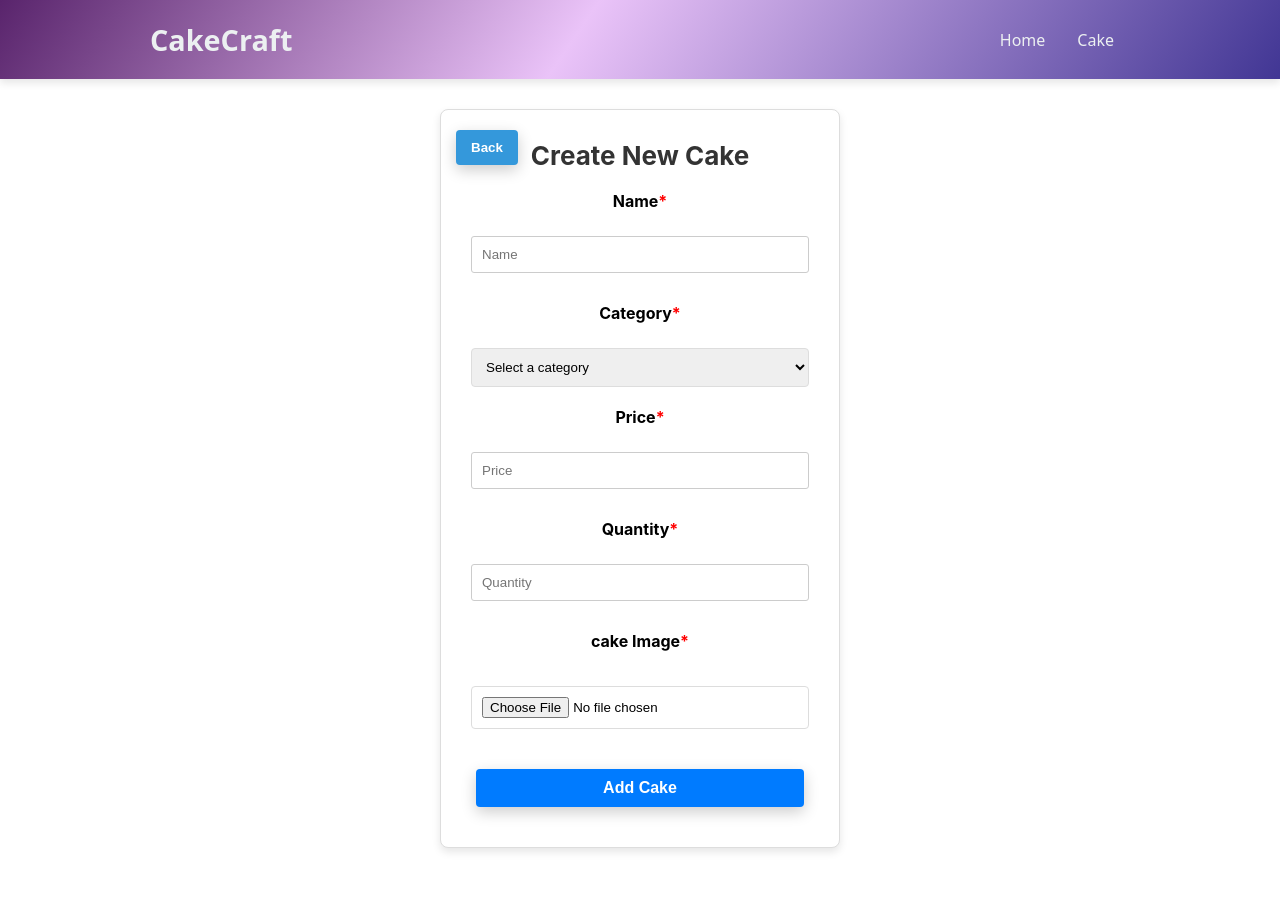
Test case: CakeForm Component › frontend_cakeform_showsValidationErrors
Click the button "Add Cake" at (640, 788), box [476, 769, 804, 807]
(page scrolled)
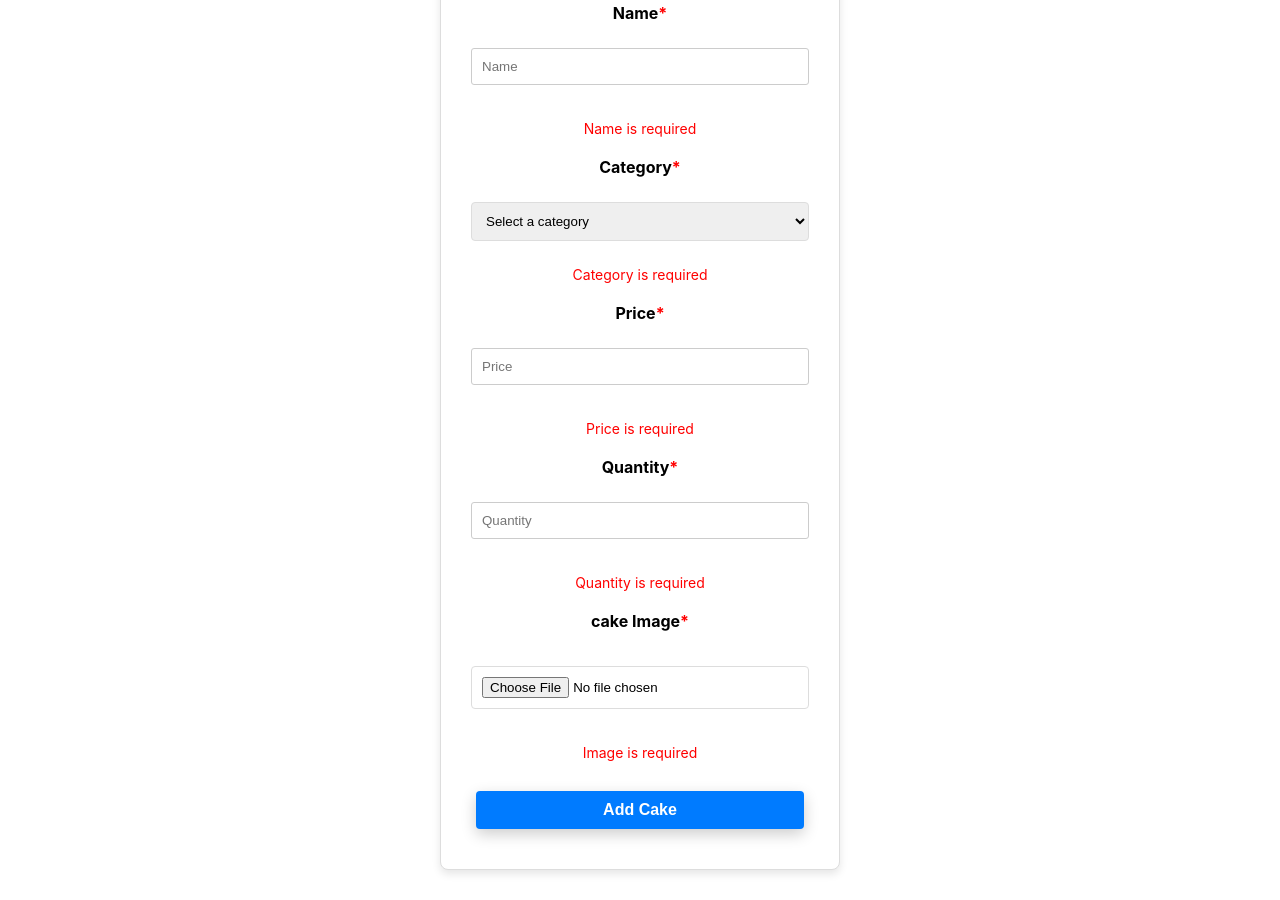
Expected: the text "Name is required" is shown, [584, 120, 696, 137]
Expected: the text "Category is required" is shown, [572, 266, 707, 283]
Expected: the text "Price is required" is shown, [586, 420, 694, 437]
